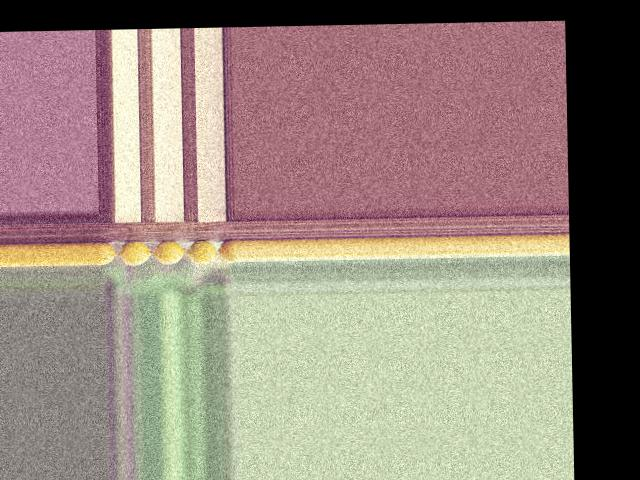lemon: (99, 242, 116, 265)
